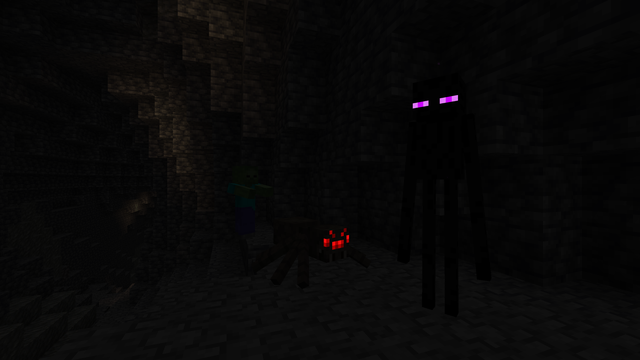araignees: (268, 212, 354, 287)
endermens: (404, 63, 479, 327)
zombies: (233, 167, 256, 240)
